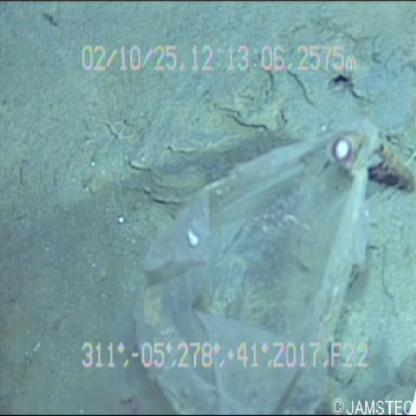Rác: (122, 93, 379, 416)
